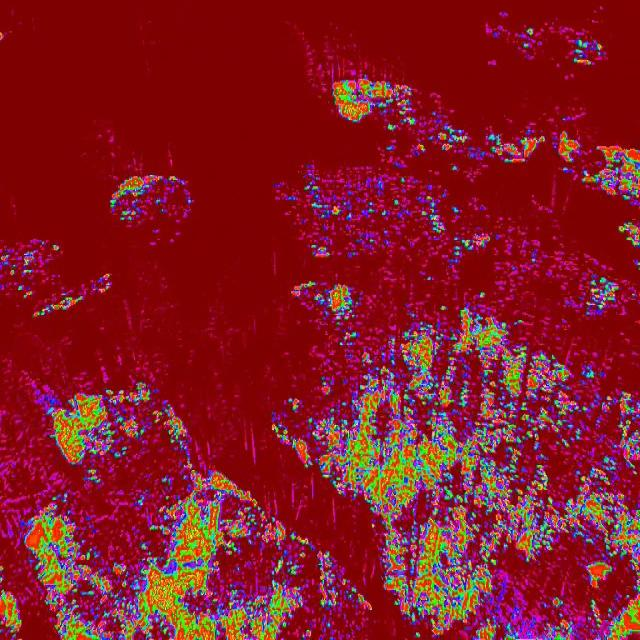fire: (280, 252, 640, 640), (0, 369, 159, 640), (271, 166, 499, 250), (0, 235, 118, 314), (194, 470, 247, 640), (158, 400, 194, 640), (314, 56, 420, 122), (476, 122, 580, 178), (108, 172, 196, 238), (248, 492, 280, 640), (580, 140, 640, 204), (491, 20, 540, 60), (416, 120, 469, 155), (562, 32, 611, 69), (615, 221, 640, 250), (270, 412, 282, 441)
